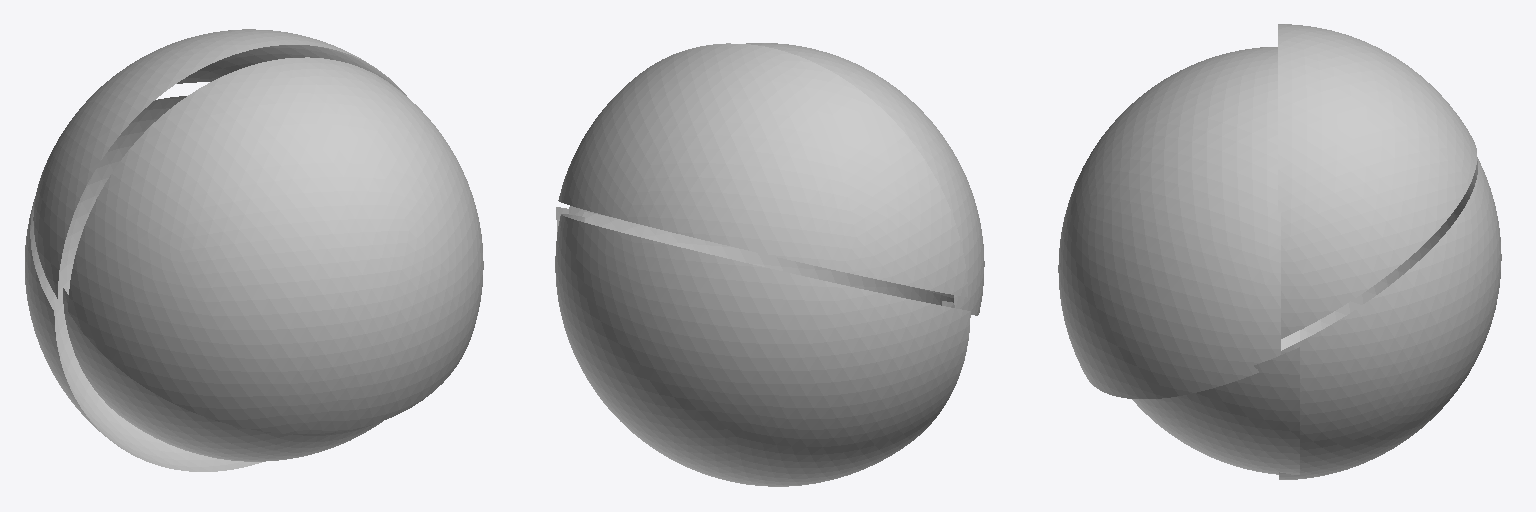
Rendered from polysphere_soup005.obj.
3 views of the same model, side by side, from view 1: azimuth 30°, elevation 25°; view 2: azimuth 150°, elevation 25°; view 3: azimuth 270°, elevation 25° (orthographic).
Bounding box in the file's own units: 2.1 × 2.06 × 1.99.